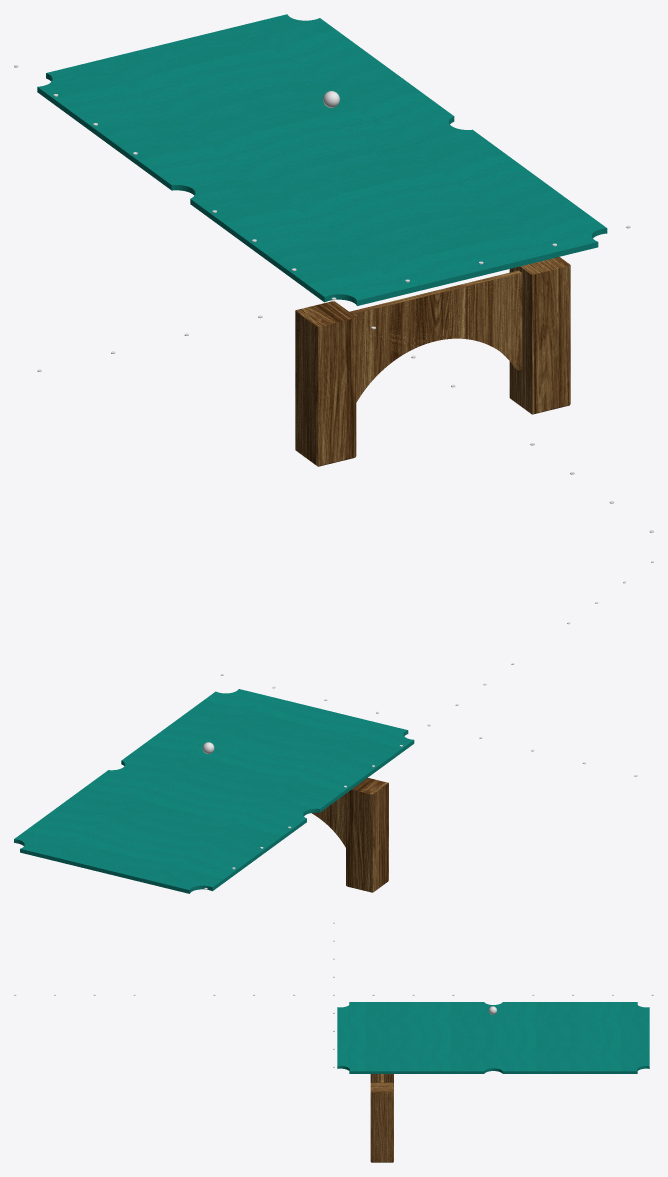
Rendered from table_test.glb.
3 views of the same model, one above another, from view 1: azimuth 30°, elevation 25°; view 2: azimuth 150°, elevation 25°; view 3: azimuth 270°, elevation 25° (orthographic). The views are drawn at different scales.
Visible parts, largest first — view 1: slate, legs; view 2: slate, legs; view 3: slate, legs.
Boxes of the visible parts, x1,y1,x2,y2 form: slate: (37, 14, 607, 305); legs: (295, 257, 570, 466); slate: (14, 689, 414, 893); legs: (311, 778, 388, 892); slate: (337, 1002, 649, 1073); legs: (370, 1074, 393, 1162).
Bounding box in the file's own units: 2.29 × 0.9366 × 4.27.
Materials: 4 (2 with a texture image).
